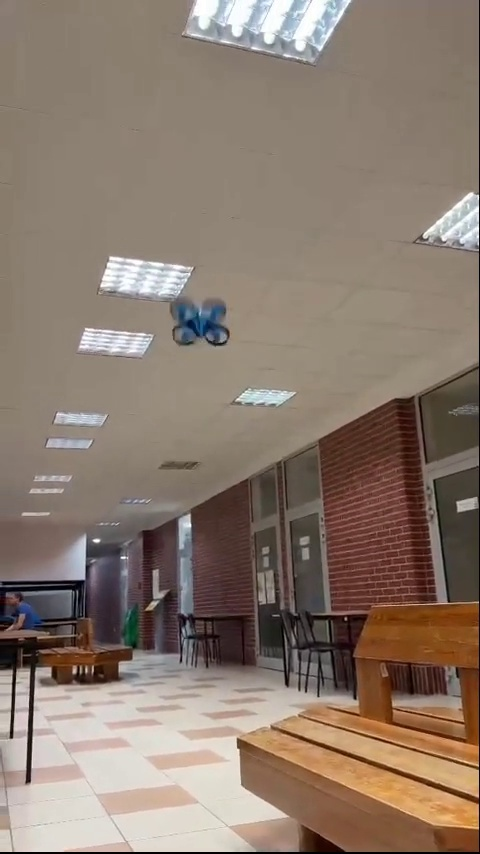drone: (169, 301, 232, 348)
no vest: (3, 593, 38, 636)
